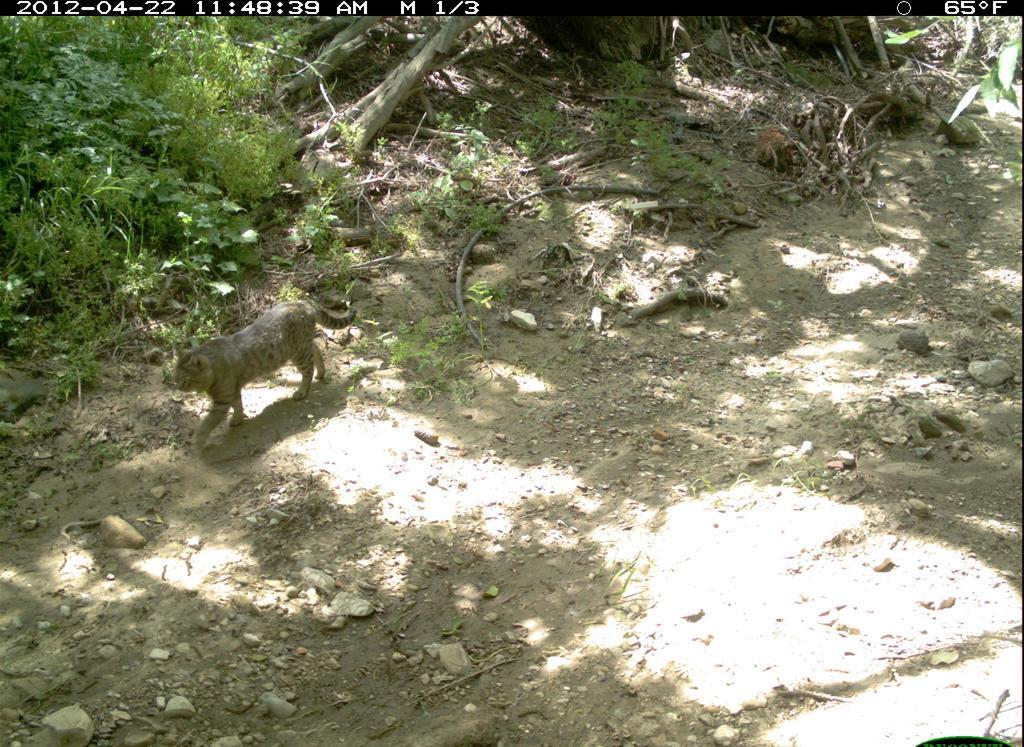cat: (167, 296, 365, 454)
